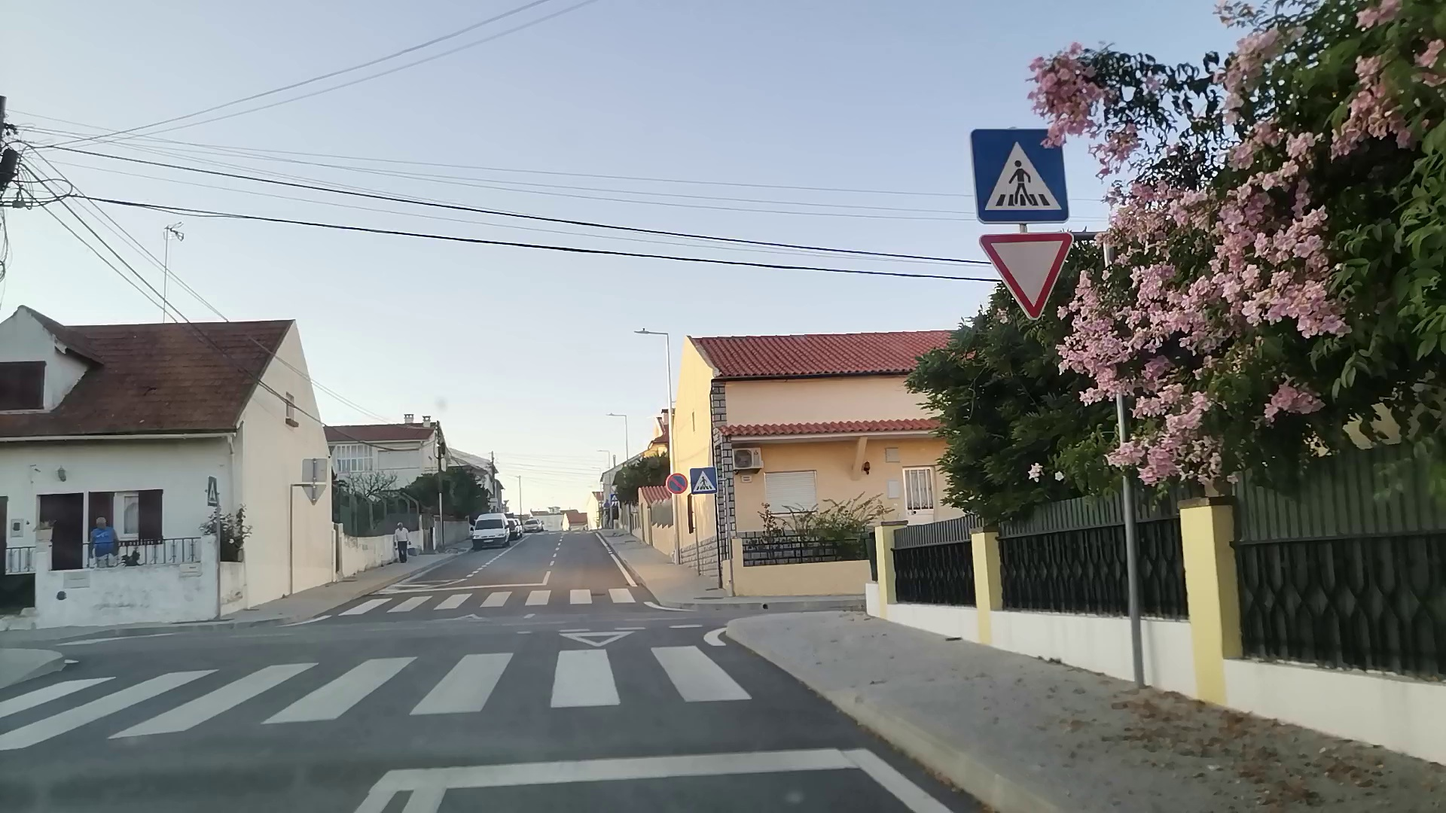Stairs: (0, 643, 775, 748), (358, 586, 640, 613)
